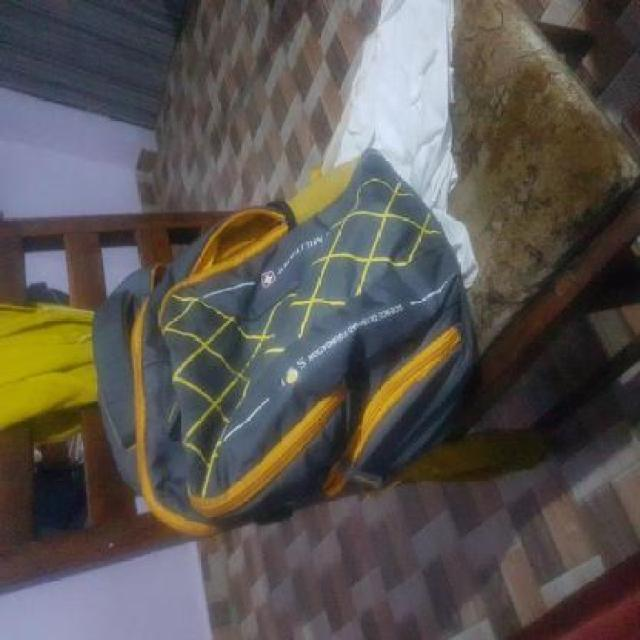backpack: (88, 148, 480, 540)
